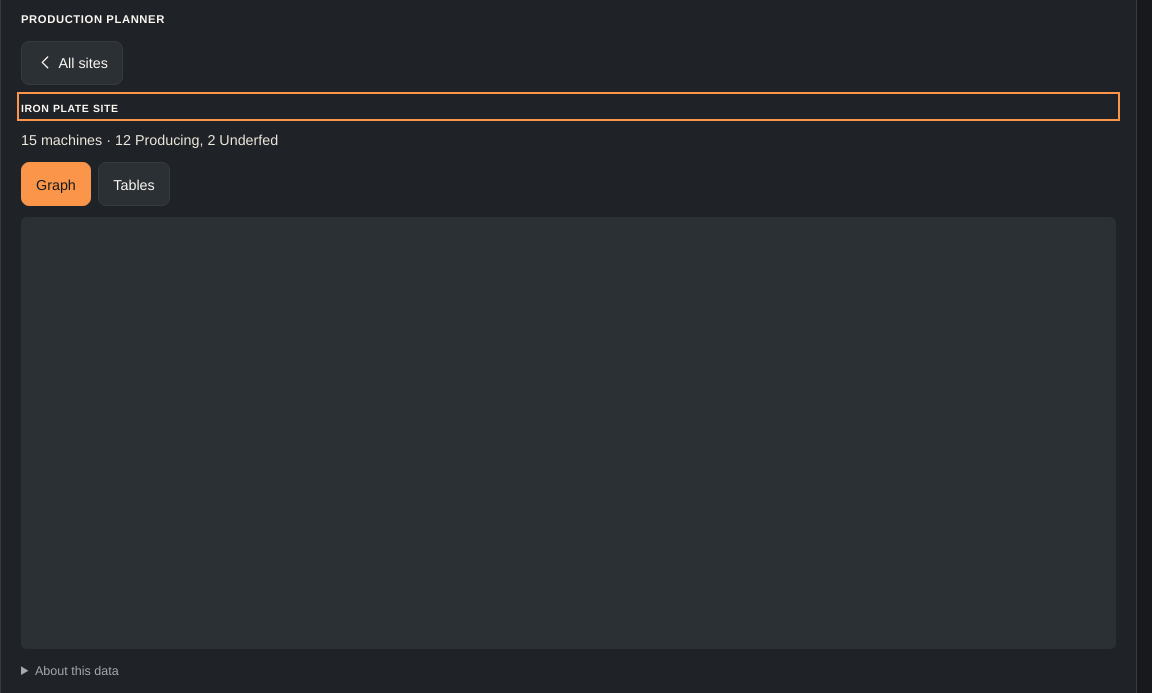
Test: Tables view (the text path) › explains unknowns under the connections when one is listed
The image size is (1152, 693).
What coordinates should you click on to do the following:
click the button "Tables"
I would click on:
 (134, 184)
Its box is top-left (98, 162), bottom-right (170, 206).
(page scrolled)
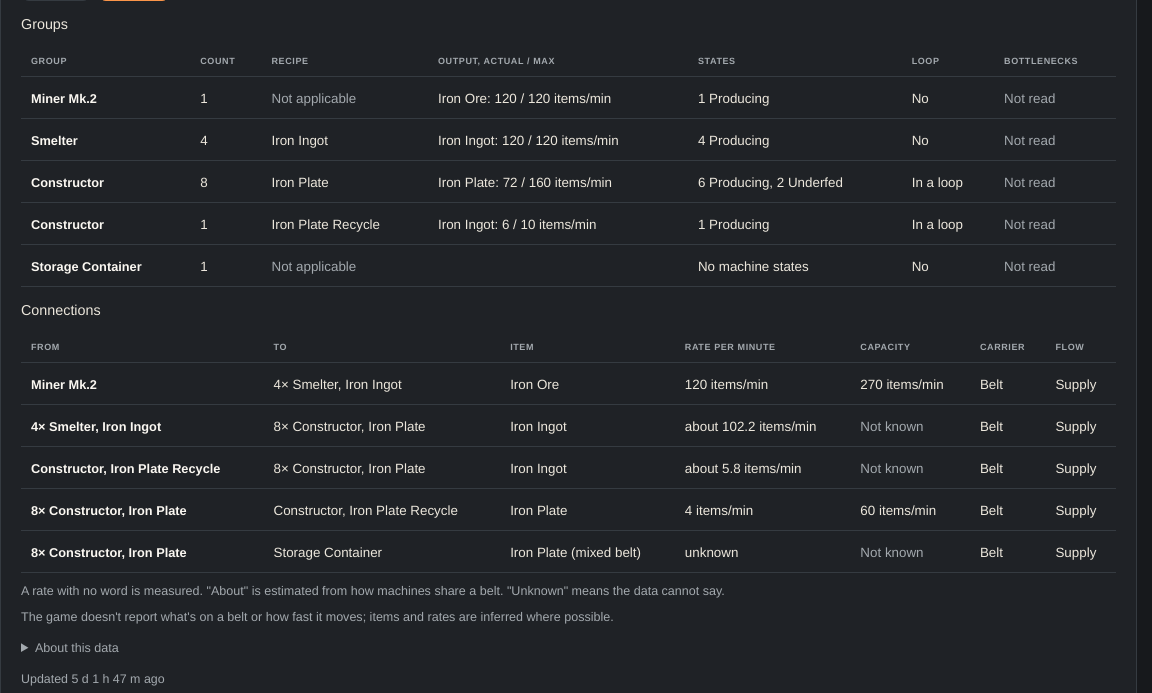
expect the text "The game doesn't report what's on a belt or how fast it moves; items and rates are inferred where possible." is shown: met, box top-left (21, 608), bottom-right (614, 624)
